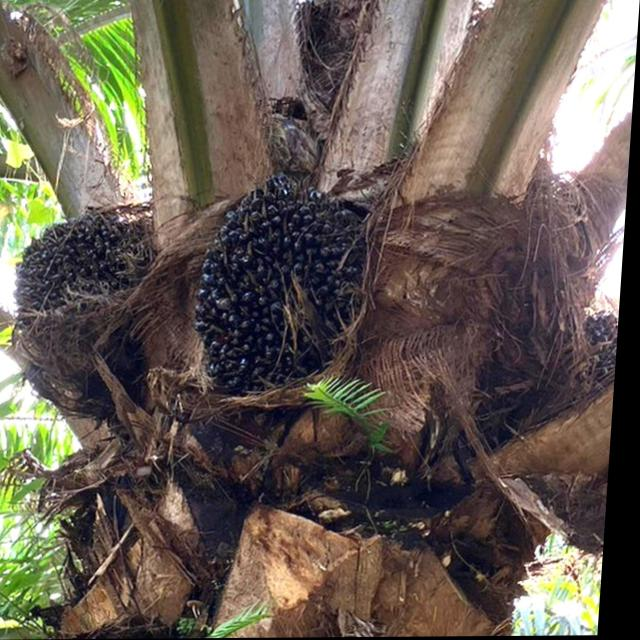unripe: (183, 163, 388, 415)
